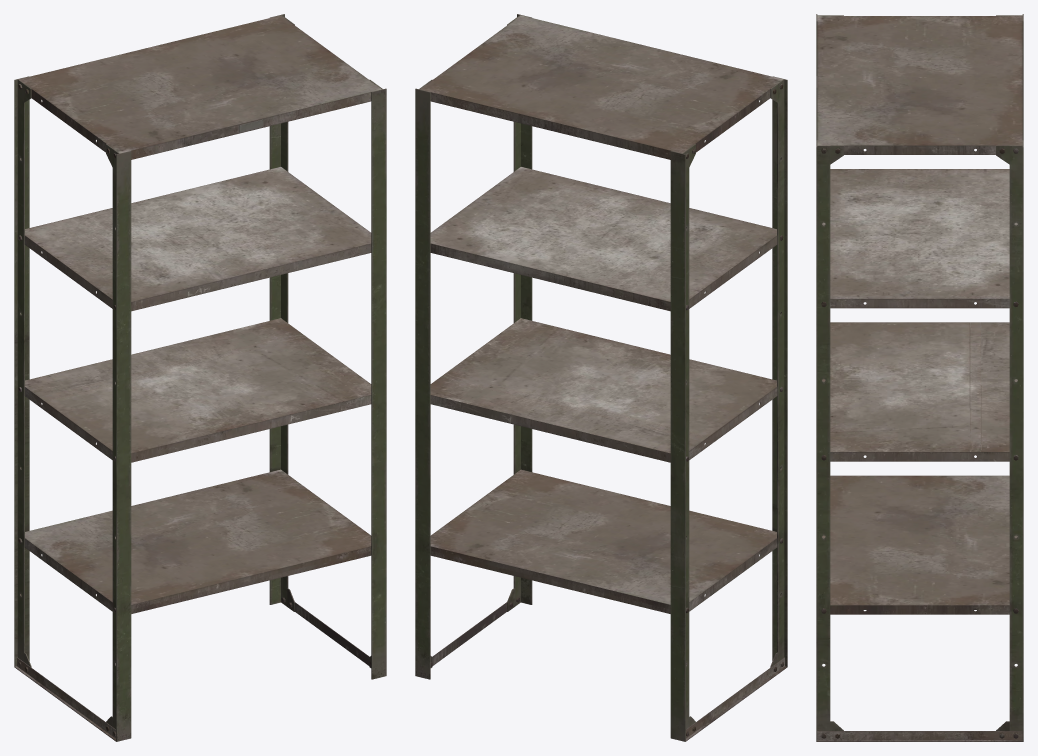
The model's file is worn_metal_rack.glb.
3 renders of one model, left to right at view 1: azimuth 30°, elevation 25°; view 2: azimuth 150°, elevation 25°; view 3: azimuth 270°, elevation 25°, orthographic.
Parts seen in each view (by area): view 1: worn_metal_rack; view 2: worn_metal_rack; view 3: worn_metal_rack.
Boxes of the visible parts, left/top/right/bottom form: worn_metal_rack: left=14, top=14, right=386, bottom=741; worn_metal_rack: left=415, top=14, right=787, bottom=741; worn_metal_rack: left=816, top=14, right=1023, bottom=741.
Bounding box in the file's own units: 0.9153 × 1.9 × 0.6001.
1 material, 1 textured.
